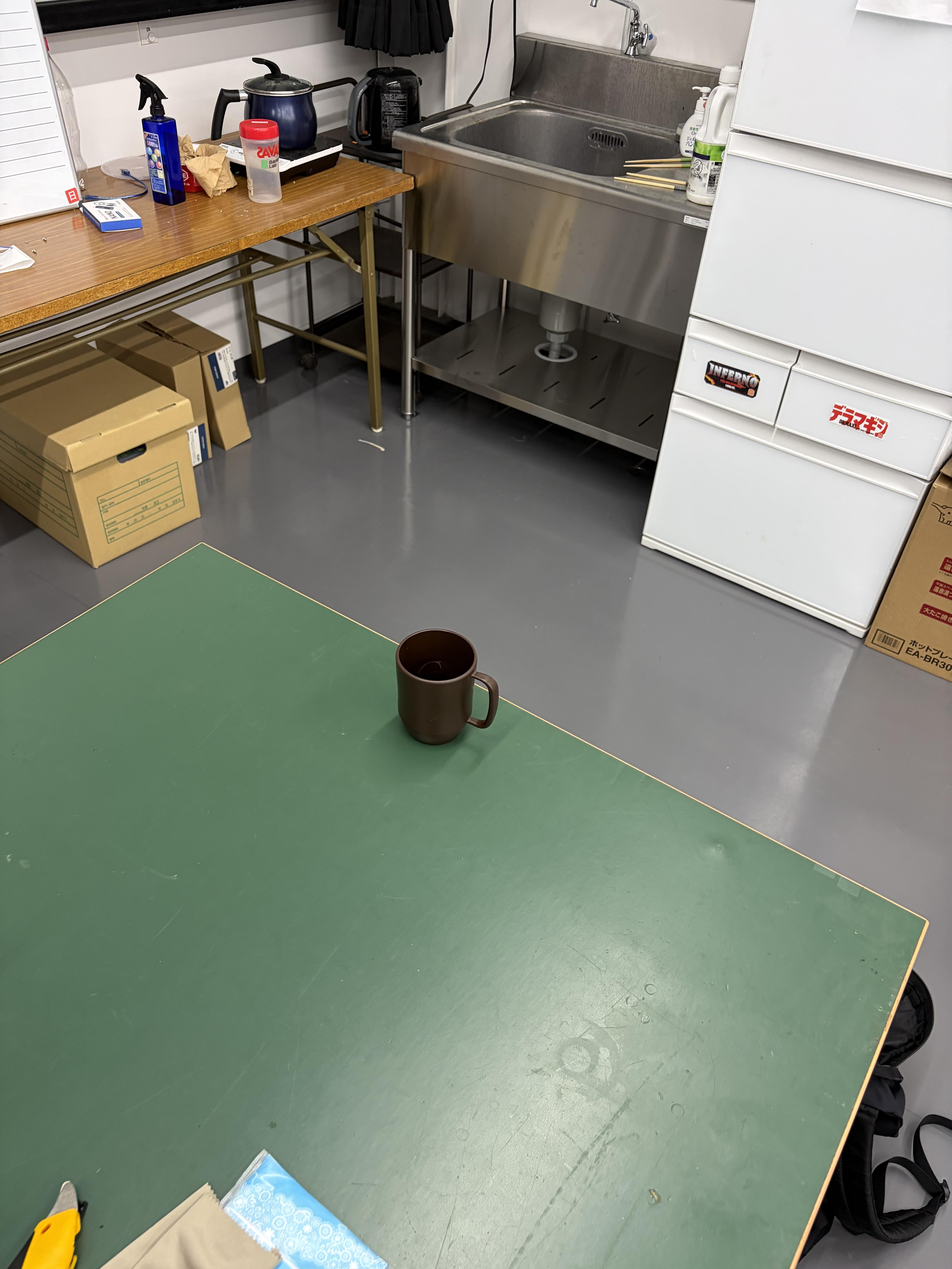mug-real100-3d100: (396, 629, 499, 745)
